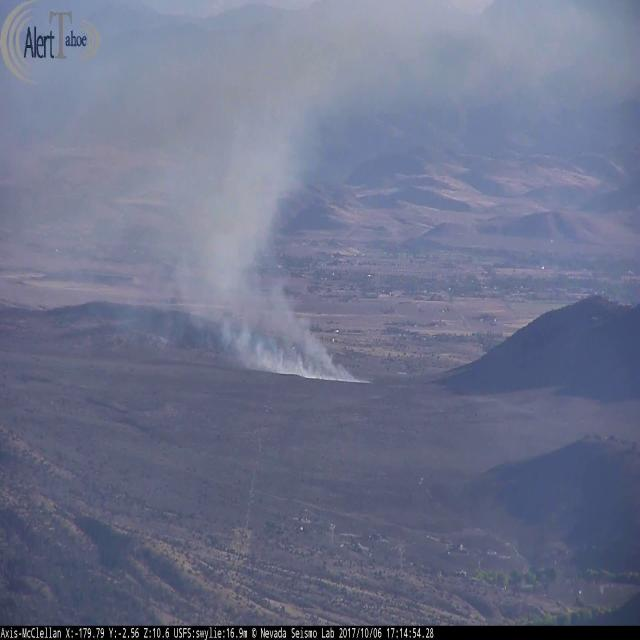smoke: (138, 20, 393, 388)
